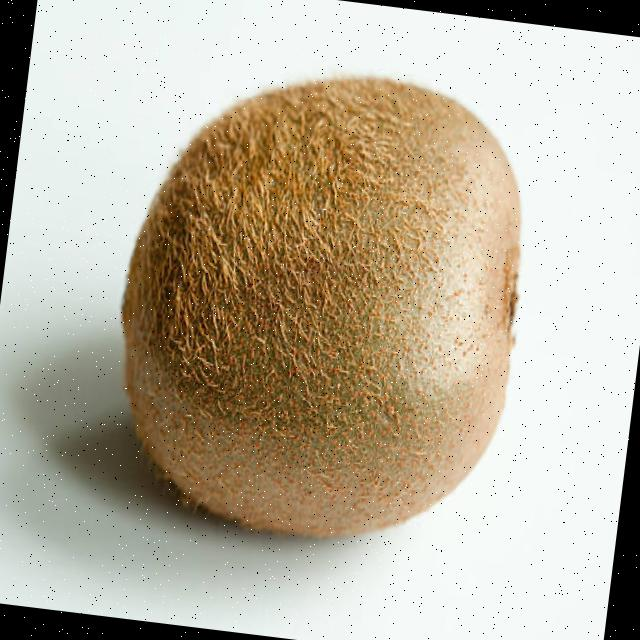kiwi: (120, 77, 520, 536)
